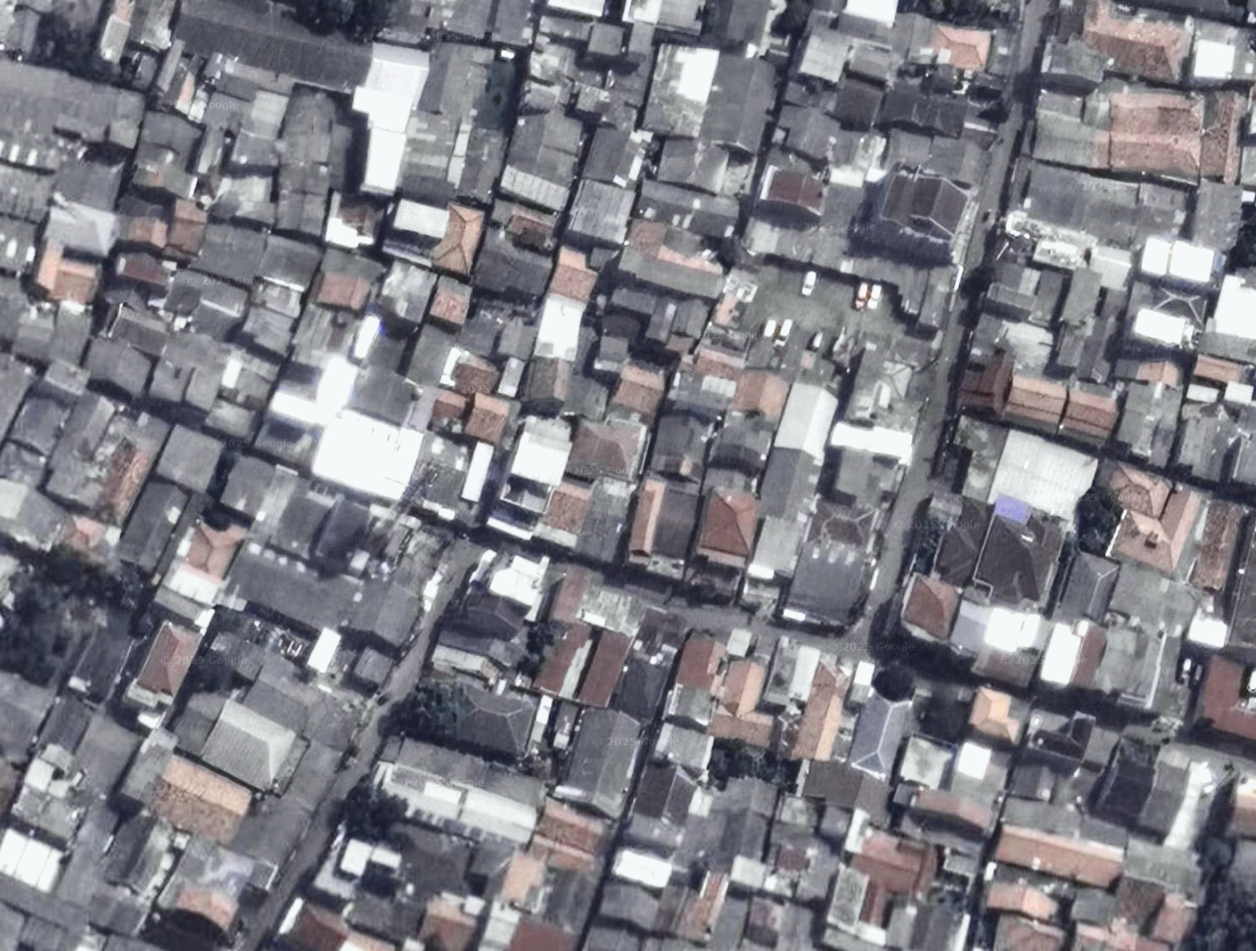building: (269, 304, 447, 459), (363, 725, 550, 859), (1002, 152, 1193, 261), (168, 0, 377, 98), (0, 57, 150, 184), (113, 730, 260, 858), (797, 227, 961, 337), (365, 756, 541, 855), (230, 724, 346, 873), (191, 70, 293, 225), (220, 533, 363, 638), (167, 683, 299, 794), (494, 797, 607, 925), (608, 209, 732, 323), (209, 452, 335, 564), (148, 502, 254, 628), (152, 836, 279, 938), (1103, 834, 1213, 951), (72, 401, 173, 524), (310, 404, 428, 504), (486, 412, 576, 543), (988, 818, 1125, 904), (554, 701, 651, 821), (740, 442, 822, 582), (987, 427, 1100, 528), (1109, 468, 1210, 580), (969, 503, 1067, 618), (868, 158, 975, 260), (836, 831, 943, 933), (112, 616, 203, 735), (410, 108, 514, 212), (48, 856, 164, 949), (851, 331, 942, 439), (0, 152, 128, 228), (695, 45, 775, 158), (946, 592, 1053, 676), (656, 631, 740, 737), (499, 109, 585, 212), (43, 388, 116, 509), (21, 698, 104, 803), (154, 267, 254, 354), (57, 711, 142, 812), (1078, 11, 1197, 83), (354, 307, 461, 387), (1052, 279, 1131, 387), (642, 36, 719, 145), (570, 39, 657, 134), (341, 88, 418, 195), (99, 815, 186, 908), (697, 406, 782, 501), (740, 198, 852, 270), (112, 473, 191, 575), (790, 651, 859, 767), (783, 541, 870, 630), (795, 750, 896, 826), (757, 821, 844, 909), (626, 477, 703, 576), (467, 227, 560, 308), (1094, 624, 1180, 711), (704, 653, 786, 744), (3, 870, 95, 951), (995, 207, 1098, 279), (147, 333, 234, 418), (564, 413, 651, 498), (300, 490, 379, 583), (705, 776, 782, 868), (60, 789, 141, 876), (242, 661, 333, 738), (1112, 561, 1203, 638), (1183, 658, 1256, 753), (981, 255, 1071, 332), (11, 292, 95, 374), (62, 616, 138, 706), (402, 431, 478, 521), (206, 632, 306, 699), (843, 688, 915, 781), (427, 379, 517, 453), (348, 574, 428, 657), (419, 37, 496, 123), (772, 374, 846, 463), (194, 211, 279, 288), (384, 520, 456, 610), (766, 91, 851, 167), (928, 494, 996, 589), (690, 487, 765, 572), (939, 414, 1010, 503), (1122, 283, 1211, 352), (531, 614, 599, 704), (637, 182, 744, 239), (307, 244, 385, 322), (581, 877, 662, 951), (455, 688, 537, 760), (1103, 88, 1212, 142), (891, 569, 967, 646), (148, 45, 223, 123), (1106, 126, 1204, 185), (1097, 735, 1160, 826), (1052, 551, 1122, 632), (671, 864, 738, 948), (1114, 380, 1180, 465), (0, 475, 71, 554), (1027, 111, 1116, 174), (1135, 751, 1197, 841), (1183, 178, 1251, 260), (575, 478, 639, 565), (379, 193, 454, 267), (413, 878, 489, 951), (10, 779, 91, 847), (0, 667, 55, 767), (647, 408, 720, 483), (378, 0, 497, 46), (1187, 498, 1244, 594), (79, 332, 158, 401), (28, 242, 102, 315), (582, 123, 653, 199), (824, 447, 904, 513), (972, 312, 1057, 374), (564, 178, 636, 251), (446, 584, 528, 648), (359, 36, 438, 102), (476, 901, 580, 951), (908, 780, 999, 836), (657, 133, 734, 199), (703, 266, 761, 353), (250, 407, 325, 474), (1175, 403, 1236, 484), (267, 373, 344, 437), (945, 737, 1015, 807), (372, 258, 438, 331), (577, 629, 635, 712), (133, 102, 207, 167), (538, 558, 602, 633), (1021, 703, 1096, 767), (633, 758, 699, 830), (1202, 274, 1256, 362), (515, 51, 579, 125), (1002, 370, 1077, 433), (956, 343, 1019, 418), (538, 474, 597, 554), (624, 0, 708, 56), (155, 423, 224, 490), (663, 366, 733, 432), (260, 235, 332, 299), (275, 893, 354, 951), (1138, 231, 1217, 289), (1201, 89, 1251, 180), (349, 366, 426, 425), (575, 579, 649, 640), (809, 497, 884, 556), (433, 202, 489, 281), (729, 363, 797, 428), (7, 389, 71, 458), (829, 414, 915, 465), (533, 292, 593, 365), (1000, 792, 1084, 844), (697, 0, 777, 54), (300, 688, 365, 754), (43, 200, 119, 256), (879, 87, 969, 134), (981, 874, 1063, 925), (485, 547, 549, 612), (606, 359, 672, 422), (156, 200, 215, 270), (793, 22, 855, 88), (319, 192, 383, 255), (965, 685, 1029, 747), (1059, 388, 1124, 449), (0, 831, 69, 888), (924, 127, 993, 184), (755, 165, 832, 216), (925, 21, 995, 77), (219, 350, 280, 413), (826, 128, 887, 191), (57, 508, 122, 567), (105, 305, 175, 359), (683, 339, 747, 398), (1107, 466, 1172, 524), (1036, 38, 1107, 91), (895, 733, 956, 794), (970, 638, 1040, 691), (943, 596, 999, 661), (488, 200, 559, 251), (548, 242, 604, 306), (1229, 515, 1256, 647), (830, 76, 887, 138), (1190, 41, 1256, 94), (0, 351, 36, 448), (309, 847, 367, 906), (1036, 620, 1085, 689), (823, 864, 872, 933), (842, 33, 903, 88), (370, 506, 425, 567), (125, 159, 201, 203), (454, 300, 508, 360), (738, 892, 793, 950), (276, 183, 335, 237), (523, 352, 574, 413), (1056, 267, 1106, 328), (533, 13, 595, 62), (93, 0, 139, 66), (1086, 241, 1142, 294), (206, 396, 266, 445), (818, 178, 867, 238), (884, 8, 936, 64), (282, 92, 340, 142), (906, 904, 969, 950), (311, 354, 359, 414), (561, 371, 614, 425), (444, 352, 501, 402), (980, 277, 1038, 326), (238, 309, 297, 356), (485, 0, 545, 46), (127, 0, 179, 52), (426, 278, 476, 332), (248, 278, 309, 322), (792, 347, 847, 394), (37, 357, 91, 403), (458, 440, 496, 505), (347, 644, 396, 694), (1007, 758, 1060, 804), (1190, 351, 1248, 393), (0, 7, 42, 63), (1229, 402, 1256, 489), (954, 105, 1003, 152), (494, 313, 539, 364), (983, 605, 1029, 654), (784, 644, 822, 703), (0, 215, 36, 274), (773, 791, 822, 834), (670, 294, 713, 342), (1031, 269, 1066, 326), (591, 331, 633, 378), (1, 278, 30, 346), (304, 626, 343, 676), (813, 803, 855, 848), (334, 835, 374, 881), (744, 333, 789, 373), (116, 217, 167, 252), (608, 283, 658, 318), (644, 296, 680, 344), (1229, 776, 1256, 840), (1134, 356, 1184, 390), (113, 256, 175, 283), (727, 854, 769, 893), (775, 332, 810, 377), (282, 135, 330, 167), (495, 355, 527, 399), (368, 842, 405, 874), (592, 24, 625, 59), (663, 329, 697, 360), (548, 2, 606, 20), (1185, 381, 1220, 406), (1223, 380, 1254, 406)
tree: (334, 775, 407, 848), (391, 677, 466, 746), (2, 589, 56, 675), (1068, 488, 1123, 556), (915, 684, 976, 745), (710, 742, 784, 791), (283, 0, 387, 28), (185, 647, 240, 699), (97, 563, 150, 616), (38, 552, 95, 601), (867, 660, 920, 710), (908, 516, 949, 565), (900, 1, 985, 23), (204, 450, 238, 497), (526, 619, 559, 652), (210, 606, 245, 637), (685, 579, 715, 607), (201, 507, 231, 532)
